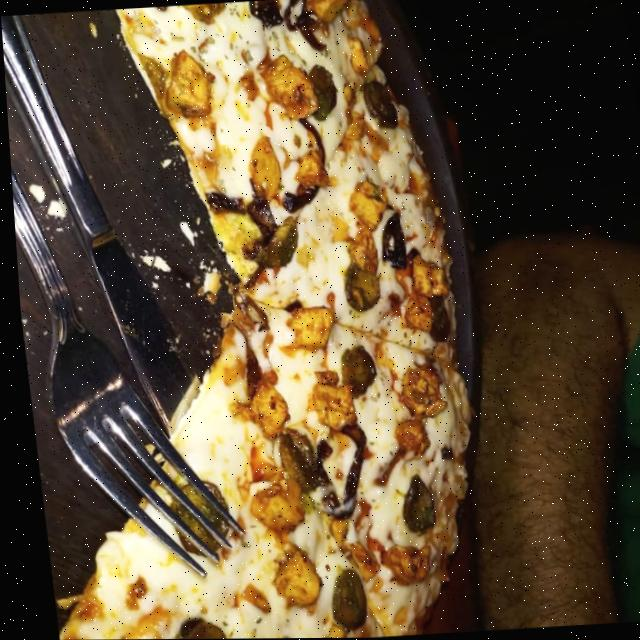pizza: (0, 0, 488, 640)
